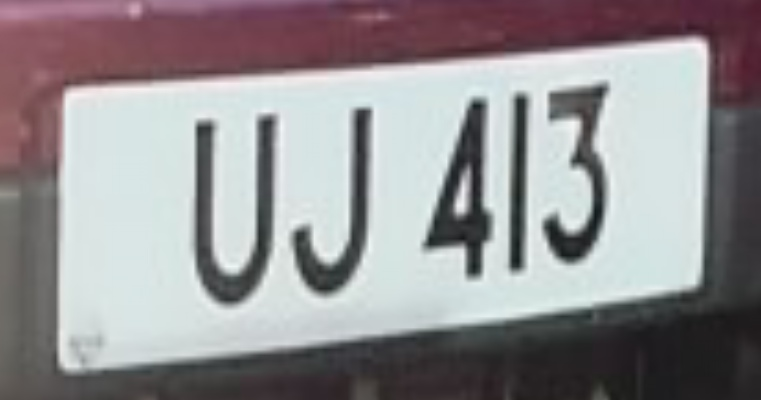1: (498, 66, 552, 294)
3: (547, 66, 631, 286)
4: (424, 72, 517, 299)
J: (289, 85, 401, 310)
U: (178, 97, 292, 322)
